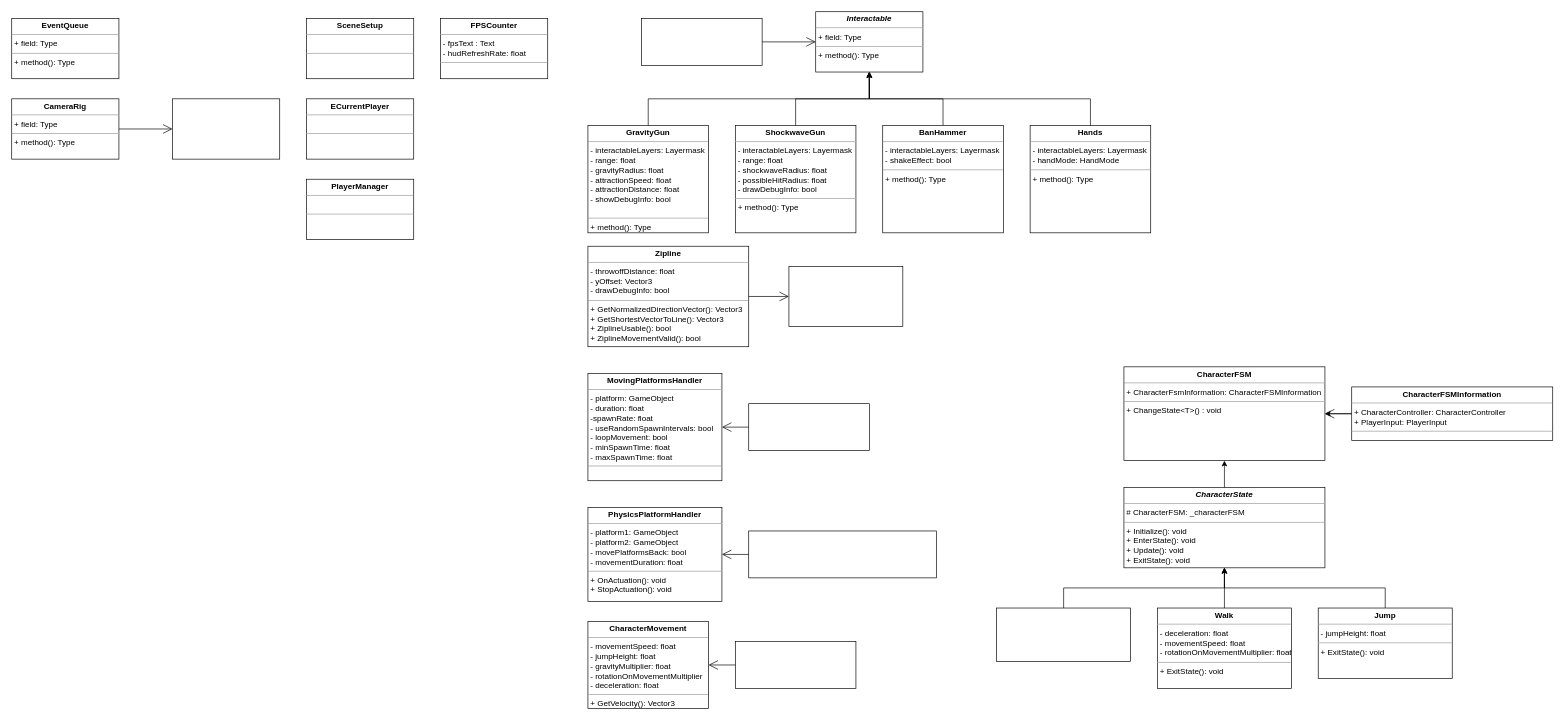
The diagram is 1564 pixels wide and 720 high, and some of its shapes have lost their labels. Here are the shapes that lost their labels. From the top down, the box of each, then its label:
(641, 18, 762, 65): InteractableHandler - initialInteractable: GameObject
(172, 98, 280, 159): SplitScreenManager + field: Type + method(): Type
(788, 266, 903, 327): Ziplinee - minDistanceToZipline: float - ziplineSpeed: float
(748, 403, 869, 451): MovingPlatform
(748, 530, 936, 578): MovingPlatform - physicsPlatformHandler: PhysicsPlatformHandler
(996, 607, 1131, 662): Idle
(735, 641, 856, 688): ObjectInteraction - pushForce: float
